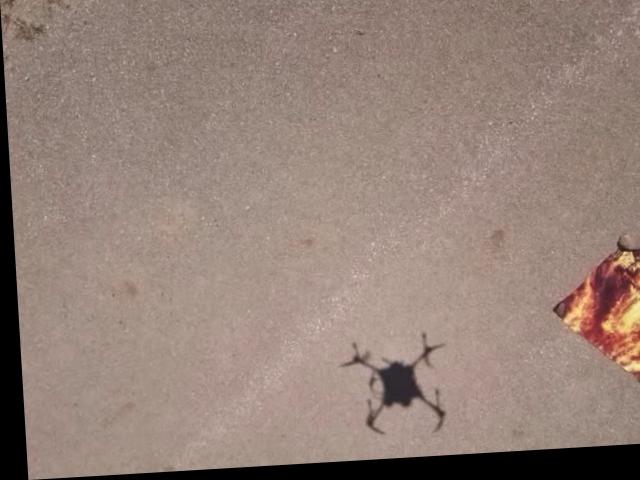fire-poster: (544, 242, 640, 397)
